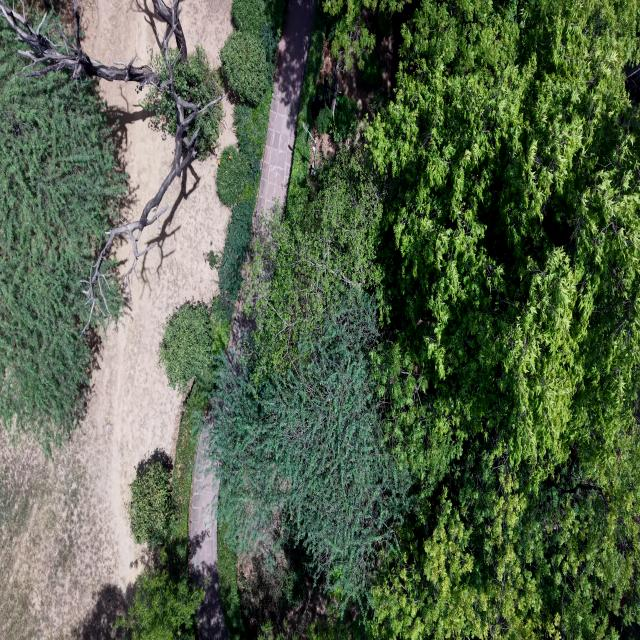DRY_AREA: (0, 158, 229, 639), (254, 0, 314, 232)
PATHWAYS: (254, 0, 314, 230)
VEGETATION_TREE: (212, 0, 639, 639), (368, 2, 639, 636), (367, 2, 639, 481), (219, 3, 408, 593), (0, 1, 222, 455), (128, 0, 283, 639), (0, 2, 221, 447), (212, 161, 409, 598), (0, 0, 223, 333), (160, 0, 283, 539), (212, 290, 409, 599), (369, 432, 637, 639), (0, 19, 125, 454), (161, 0, 283, 387), (119, 303, 225, 639), (251, 157, 381, 371), (129, 303, 227, 572), (117, 384, 207, 639), (216, 0, 284, 321), (128, 366, 215, 564), (168, 304, 228, 547), (288, 2, 358, 200), (237, 540, 333, 636), (171, 365, 216, 543), (117, 547, 204, 639), (288, 2, 326, 200), (220, 0, 284, 103), (217, 92, 270, 208), (159, 302, 226, 391), (322, 0, 405, 70), (213, 199, 254, 325), (129, 459, 173, 545), (234, 91, 270, 194), (323, 0, 376, 69), (217, 523, 248, 639), (257, 609, 367, 639), (141, 52, 177, 136), (217, 146, 254, 207), (305, 611, 365, 639), (332, 93, 358, 141), (282, 560, 303, 605), (362, 52, 382, 88), (258, 619, 287, 639), (376, 3, 393, 35), (315, 105, 333, 135)
